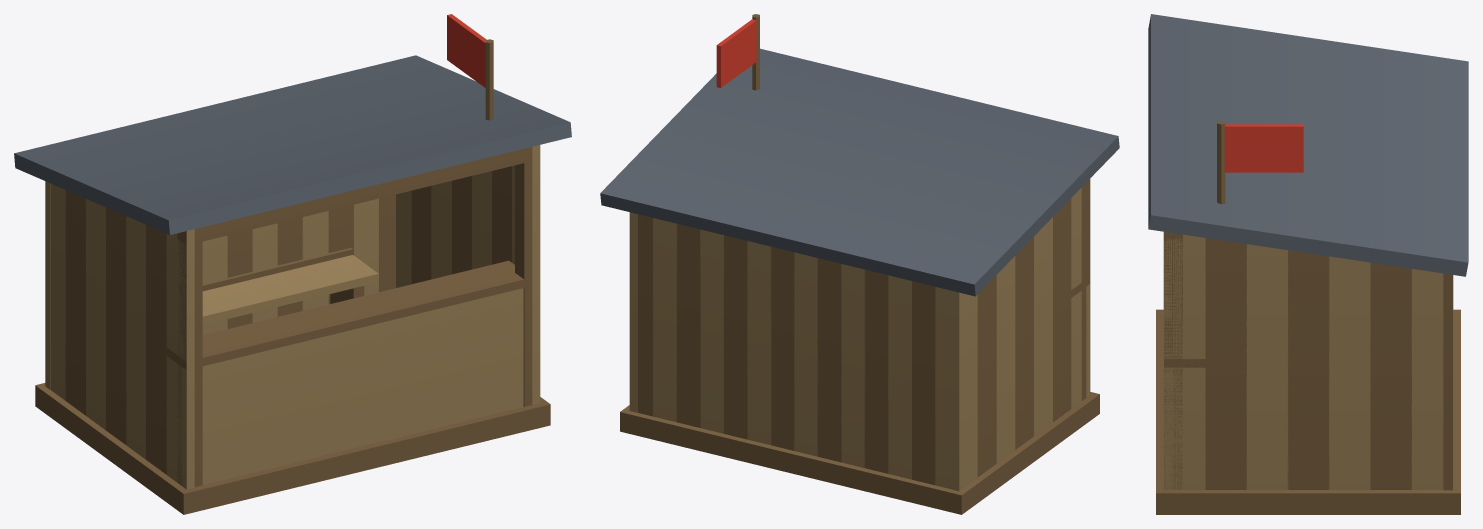
File: SM_JudgesHut.glb
3 renders of one model, left to right at view 1: azimuth 30°, elevation 25°; view 2: azimuth 150°, elevation 25°; view 3: azimuth 270°, elevation 25°, orthographic. The views are drawn at different scales.
Visible parts, largest first — view 1: SM_JudgesHut; view 2: SM_JudgesHut; view 3: SM_JudgesHut.
Boxes of the visible parts, x1=… form: SM_JudgesHut: x1=14, y1=14, x2=571, y2=514; SM_JudgesHut: x1=600, y1=14, x2=1119, y2=514; SM_JudgesHut: x1=1148, y1=14, x2=1468, y2=514.
Size of the model in its own units: 3 by 2.63 by 2.02.
1 material, 1 textured.
